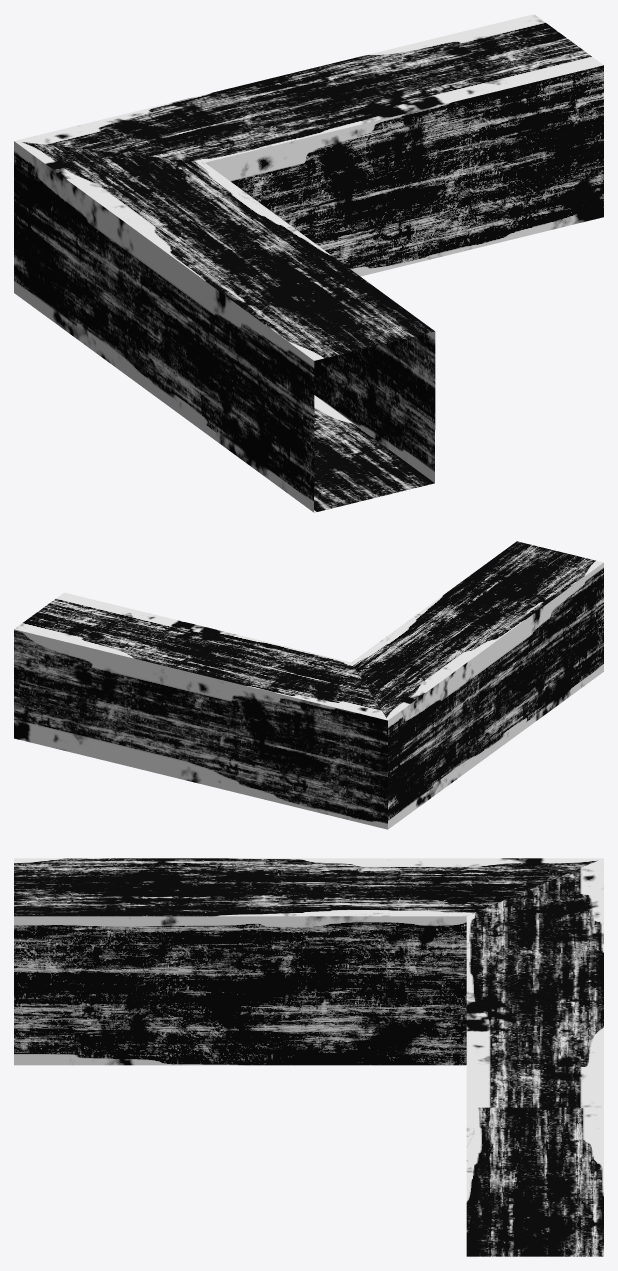
File: SM_wall_A_element_corner_02.fbx
3 views of the same model, one above another, from view 1: azimuth 30°, elevation 25°; view 2: azimuth 150°, elevation 25°; view 3: azimuth 270°, elevation 25° (orthographic). The views are drawn at different scales.
Visible parts, largest first — view 1: SM_wall_A_element_corner_02_LOD0; view 2: SM_wall_A_element_corner_02_LOD0; view 3: SM_wall_A_element_corner_02_LOD0.
Part boxes in pixels (<box>): SM_wall_A_element_corner_02_LOD0: <box>14,14,603,512</box>; SM_wall_A_element_corner_02_LOD0: <box>14,541,603,829</box>; SM_wall_A_element_corner_02_LOD0: <box>14,858,603,1256</box>.
Bounding box in the file's own units: 215 × 215 × 60.
Materials: 1 (1 with a texture image).
